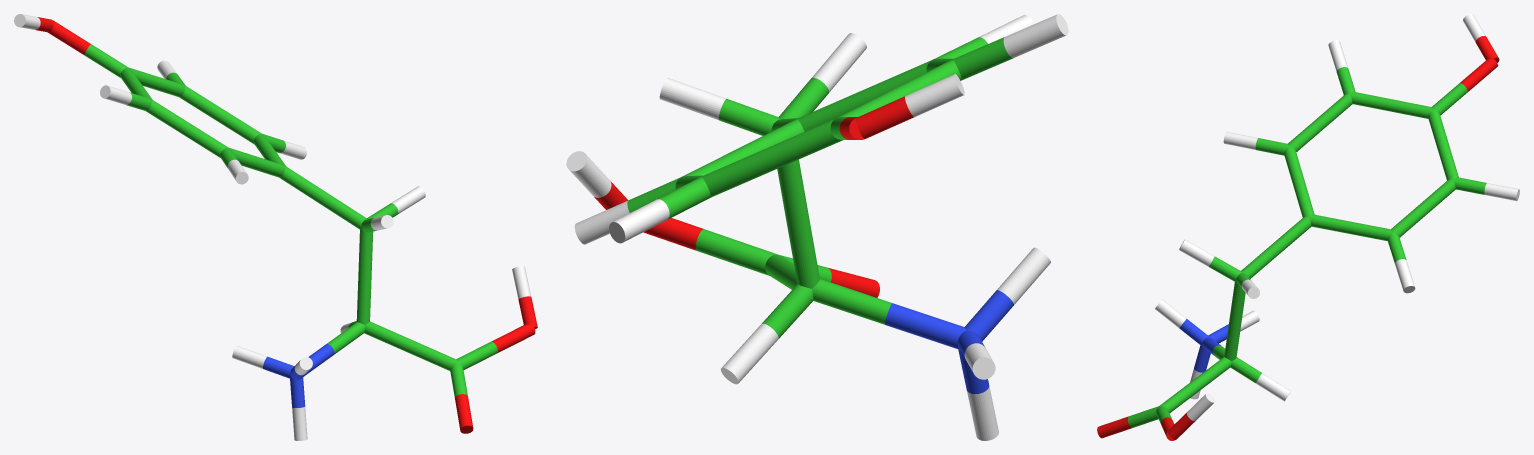
Rendered from animo acid tyrosine.gltf.
3 views of the same model, side by side, from view 1: azimuth 30°, elevation 25°; view 2: azimuth 150°, elevation 25°; view 3: azimuth 270°, elevation 25° (orthographic). The views are drawn at different scales.
Bounding box in the file's own units: 105 × 94.83 × 112.
